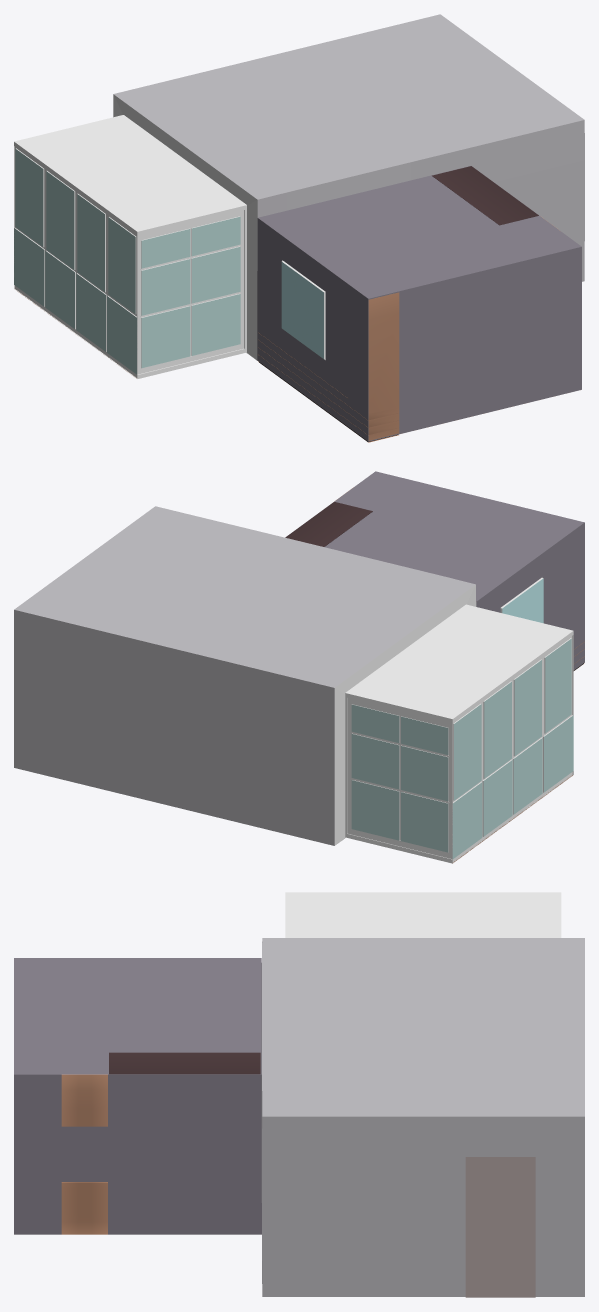
The model's file is Room Nnew (1).fbx.
3 views of the same model, one above another, from view 1: azimuth 30°, elevation 25°; view 2: azimuth 150°, elevation 25°; view 3: azimuth 270°, elevation 25° (orthographic). The views are drawn at different scales.
Visible parts, largest first — view 1: Cube.021, Cube, Cube.002, Cube.034, New, Cube.024; view 2: Cube, Cube.002, Cube.021, New, Cube.024; view 3: Cube, Cube.021, Cube.002, Cube.016, Cube.023, Cube.024.
Boxes of the visible parts, x1,y1,x2,y2 form: Cube.021: [257, 166, 581, 441]; Cube: [113, 14, 584, 281]; Cube.002: [14, 115, 246, 378]; Cube.034: [258, 292, 399, 442]; New: [113, 94, 257, 360]; Cube.024: [432, 166, 538, 225]; Cube: [14, 506, 475, 845]; Cube.002: [345, 604, 573, 863]; Cube.021: [292, 471, 584, 670]; New: [334, 584, 476, 845]; Cube.024: [285, 501, 372, 546]; Cube: [261, 938, 584, 1296]; Cube.021: [14, 958, 261, 1234]; Cube.002: [285, 892, 561, 937]; Cube.016: [465, 1157, 535, 1297]; Cube.023: [61, 1074, 107, 1234]; Cube.024: [109, 1052, 260, 1074].
Size of the model in its own units: 21306 by 7535 by 21529.
